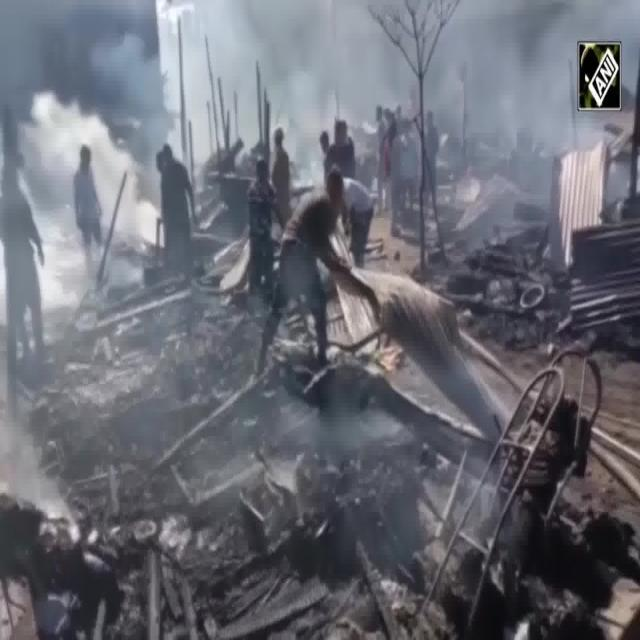smoke: (189, 16, 392, 153), (479, 29, 572, 135), (269, 394, 399, 449), (29, 119, 69, 284), (1, 423, 51, 529)
